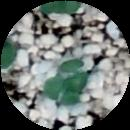Basil: (43, 81, 79, 103), (65, 59, 87, 89), (43, 1, 80, 13)
